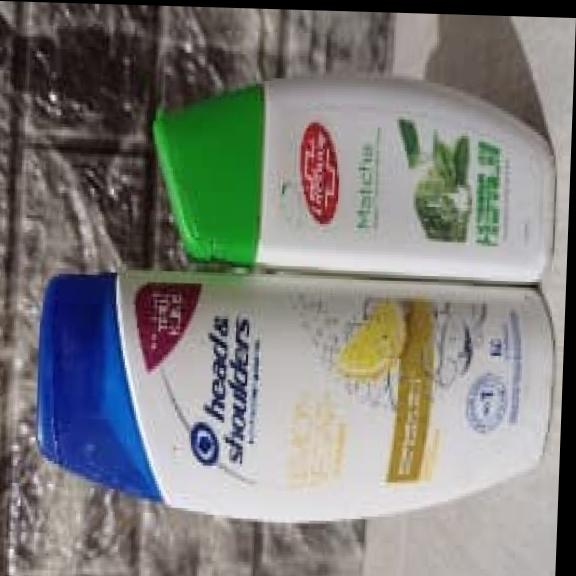Plastik: (37, 270, 552, 518), (154, 78, 552, 280)
